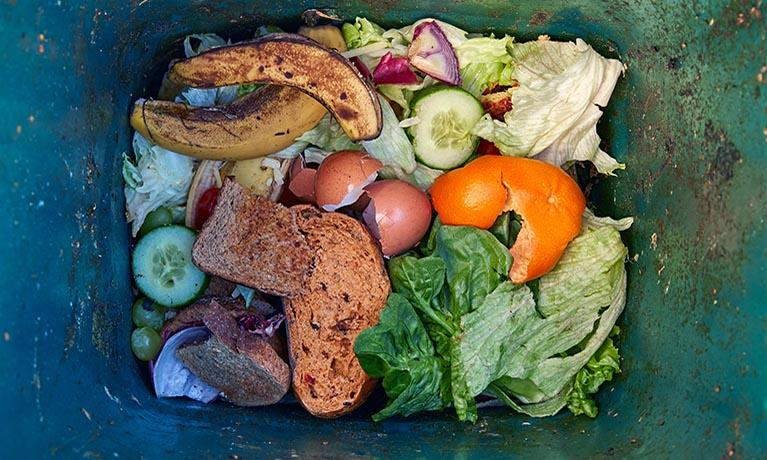organic: (450, 226, 630, 425), (130, 9, 347, 160), (280, 203, 391, 421), (171, 33, 383, 143), (472, 38, 628, 173), (430, 154, 586, 284), (192, 176, 313, 299), (174, 297, 291, 406), (132, 225, 211, 310), (407, 84, 483, 170), (408, 21, 460, 84), (130, 326, 164, 360)
